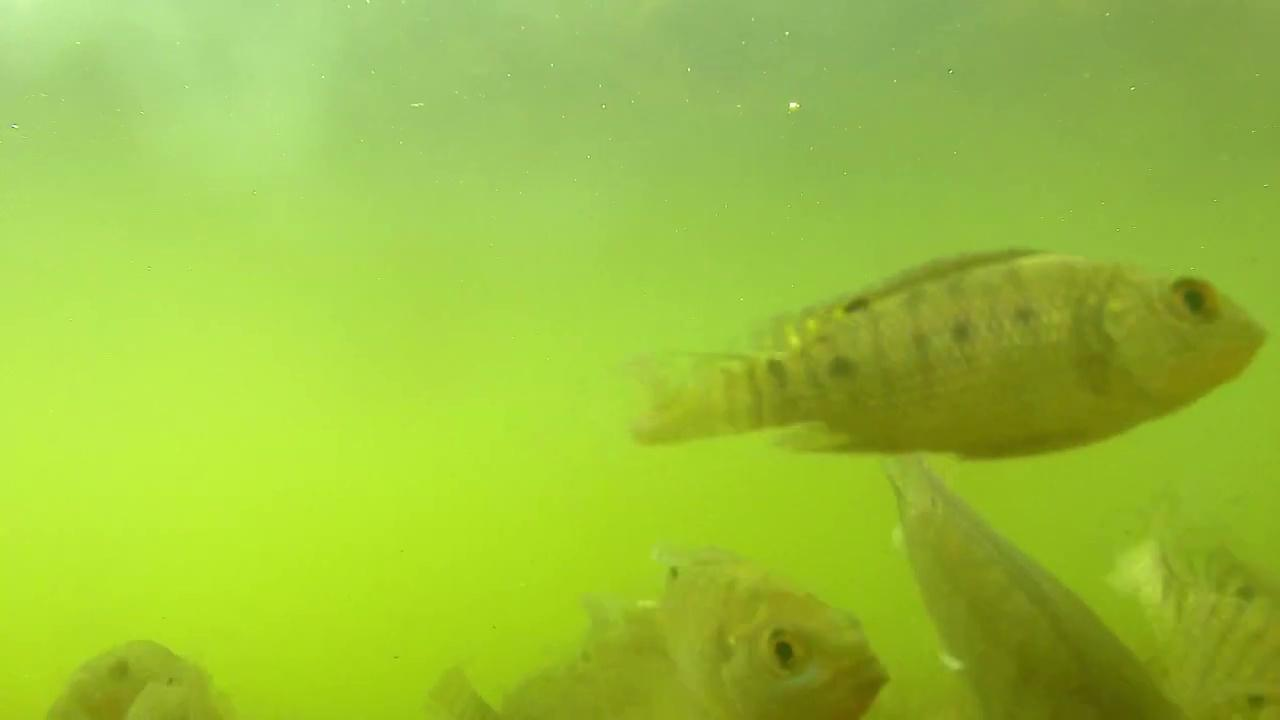Tilapia: (637, 236, 1270, 464), (634, 552, 897, 712)
